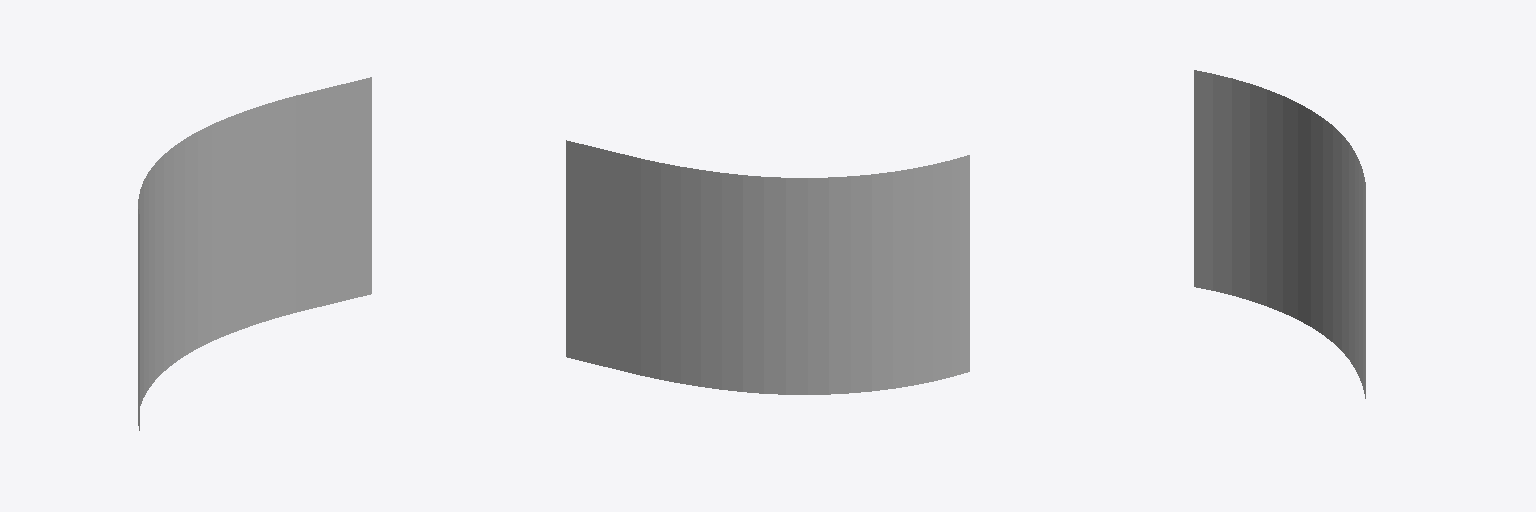
The model's file is Screen_2.obj.
3 views of the same model, side by side, from view 1: azimuth 30°, elevation 25°; view 2: azimuth 150°, elevation 25°; view 3: azimuth 270°, elevation 25° (orthographic).
Parts seen in each view (by area): view 1: stage1_2_feed; view 2: stage1_2_feed; view 3: stage1_2_feed.
Part boxes in pixels (x1,y1,x2,y2): stage1_2_feed: (138, 77, 371, 430); stage1_2_feed: (566, 140, 969, 394); stage1_2_feed: (1194, 70, 1365, 398).
Size of the model in its own units: 8.42 by 5.5 by 3.96.